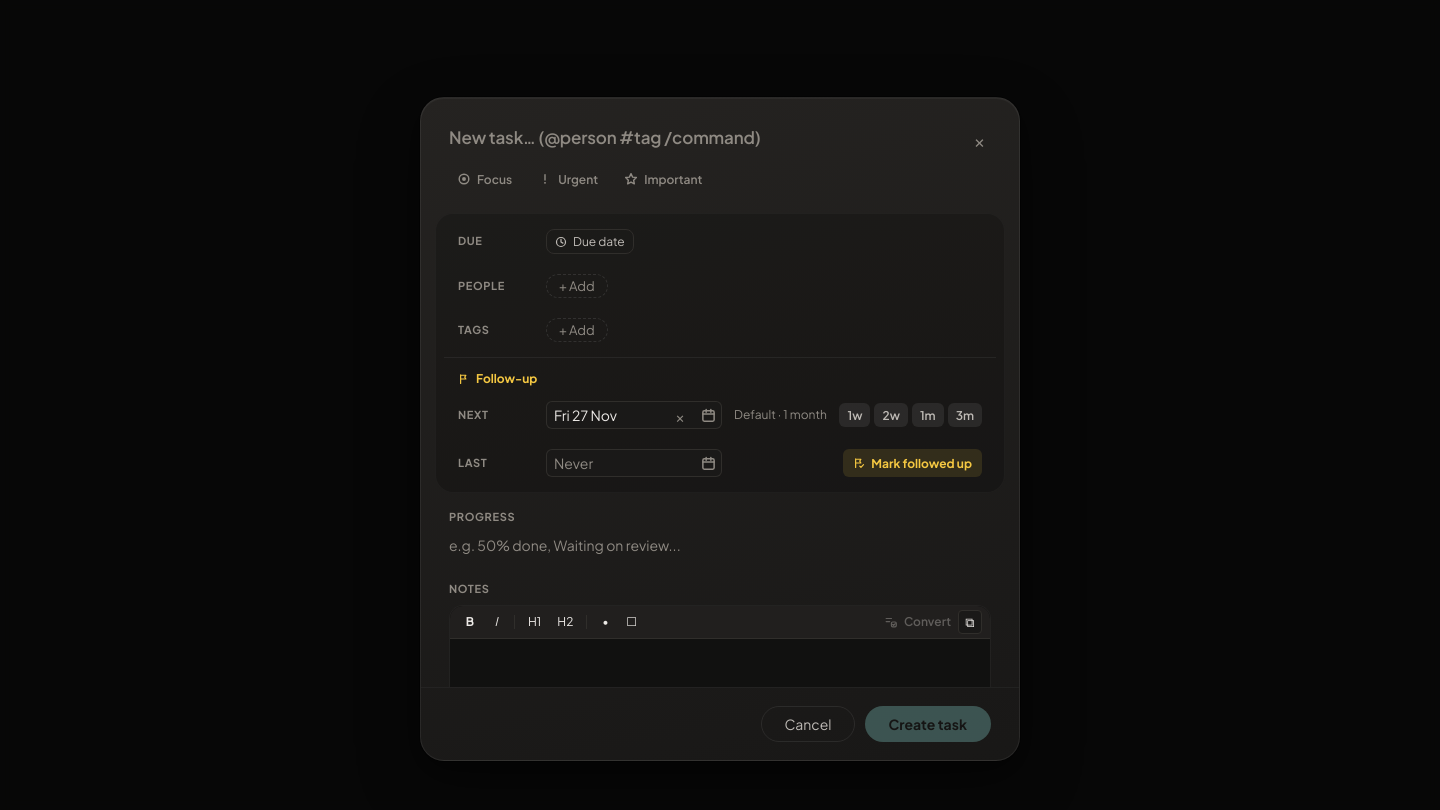
it: task title autocomplete — tags › accept › Enter key accepts the selected (first) tag when matches exist
The width and height of the screenshot is (1440, 810).
Type "#f" into the field with placeholder "New task… (@person #tag /command)". click: coordinates (703, 138)
box: x1=449 y1=126 x2=956 y2=150
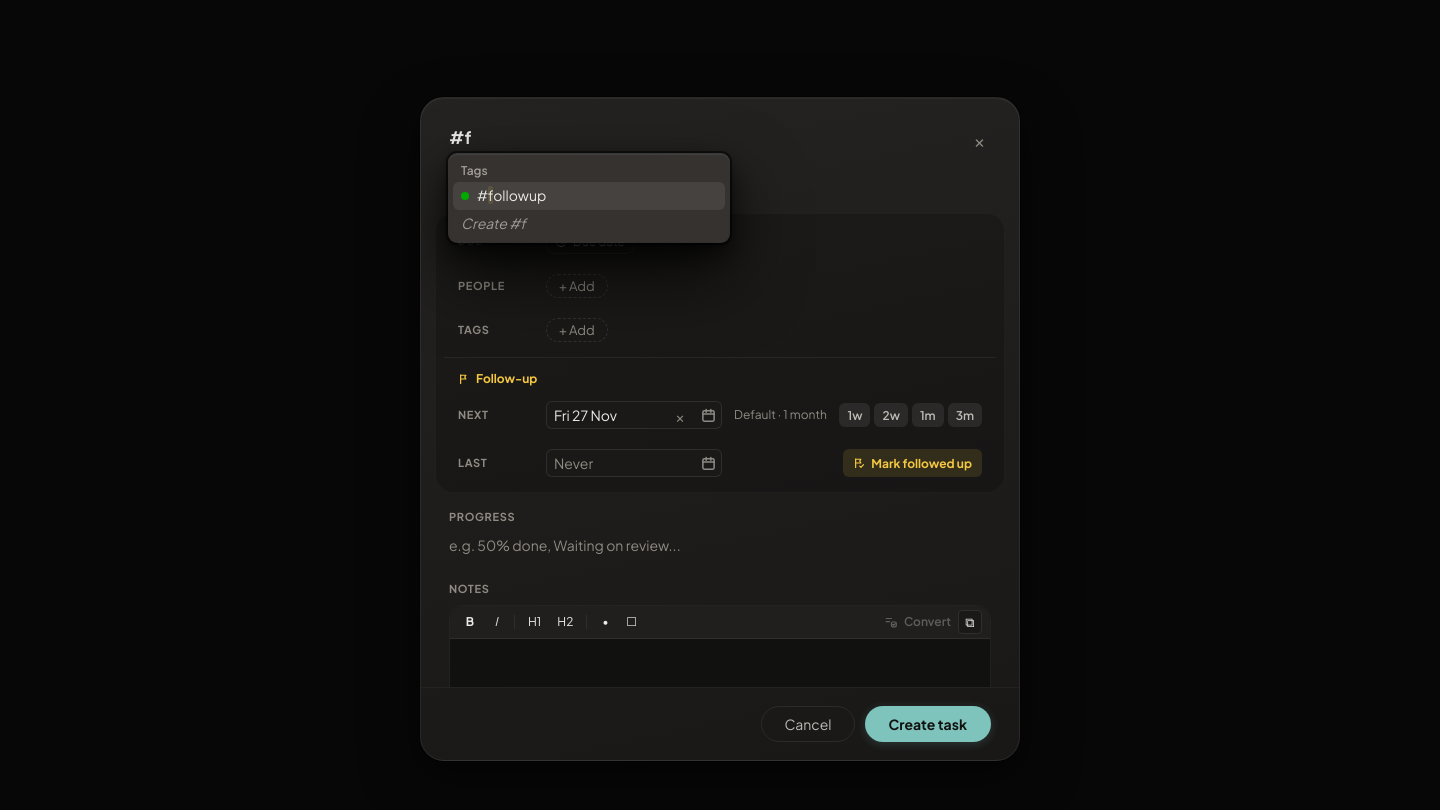
Press Enter in the 1st field with placeholder "New task… (@person #tag /command)", box x1=449 y1=126 x2=956 y2=150
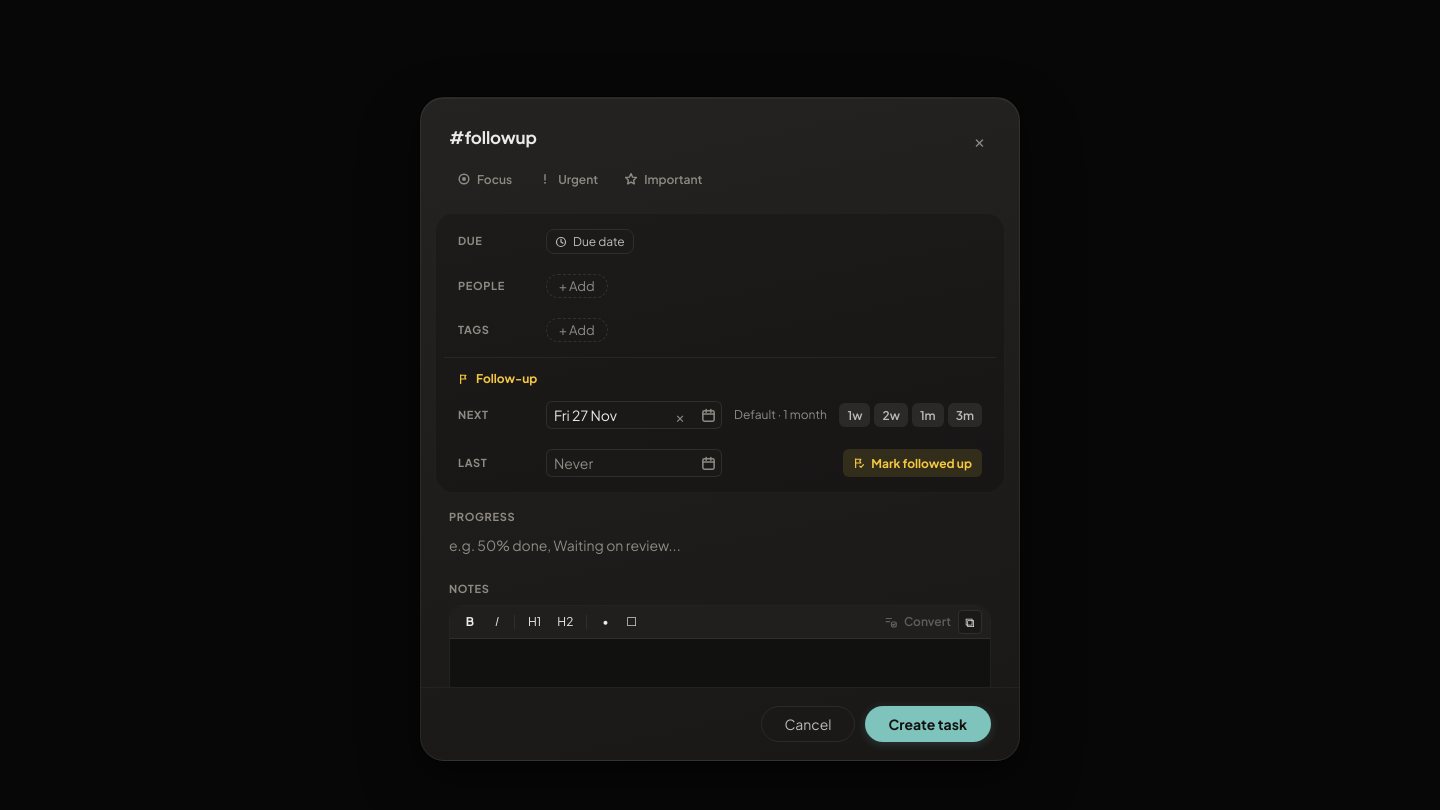
Result: the 1st field with placeholder "New task… (@person #tag /command)" holds "#followup " at x1=449 y1=126 x2=956 y2=150
